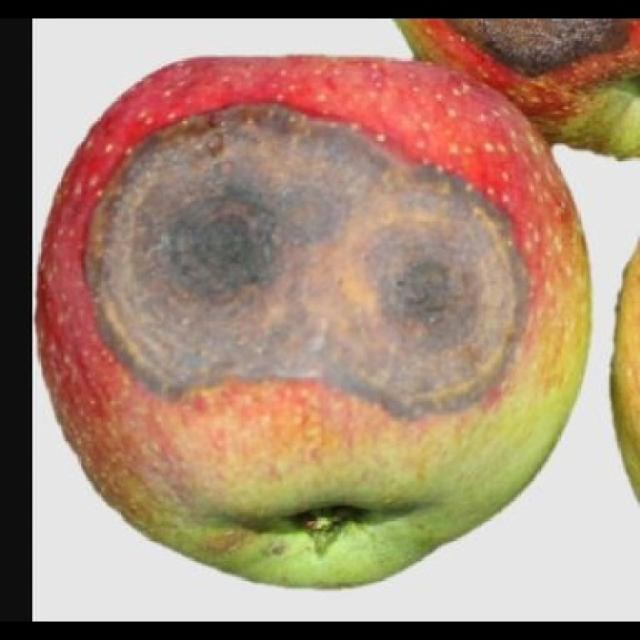Rotten Apple: (40, 51, 597, 591)
